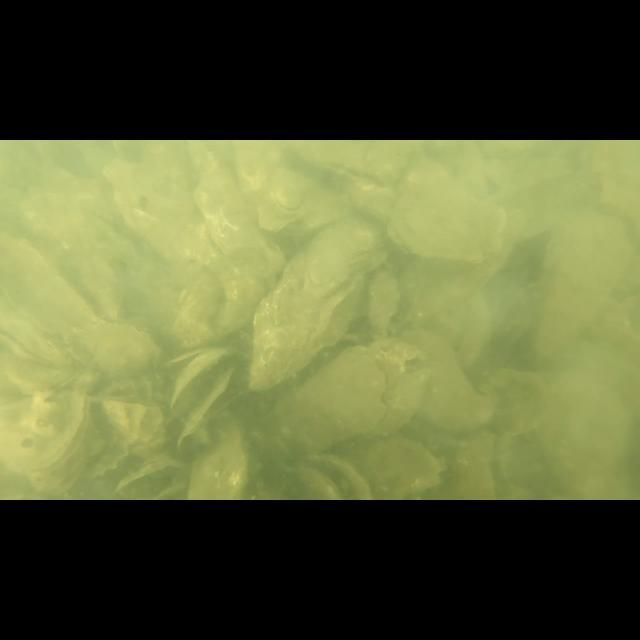Oyster-Closed: (249, 224, 383, 394), (532, 210, 630, 374), (258, 344, 390, 456), (0, 235, 98, 343), (400, 330, 498, 432), (172, 246, 274, 344), (386, 189, 506, 267), (69, 321, 163, 392), (343, 438, 445, 500), (188, 432, 250, 501)
Oyster-Open: (169, 346, 239, 446), (22, 388, 90, 472), (0, 313, 70, 373), (368, 260, 418, 334), (292, 454, 371, 500), (118, 460, 186, 500)
